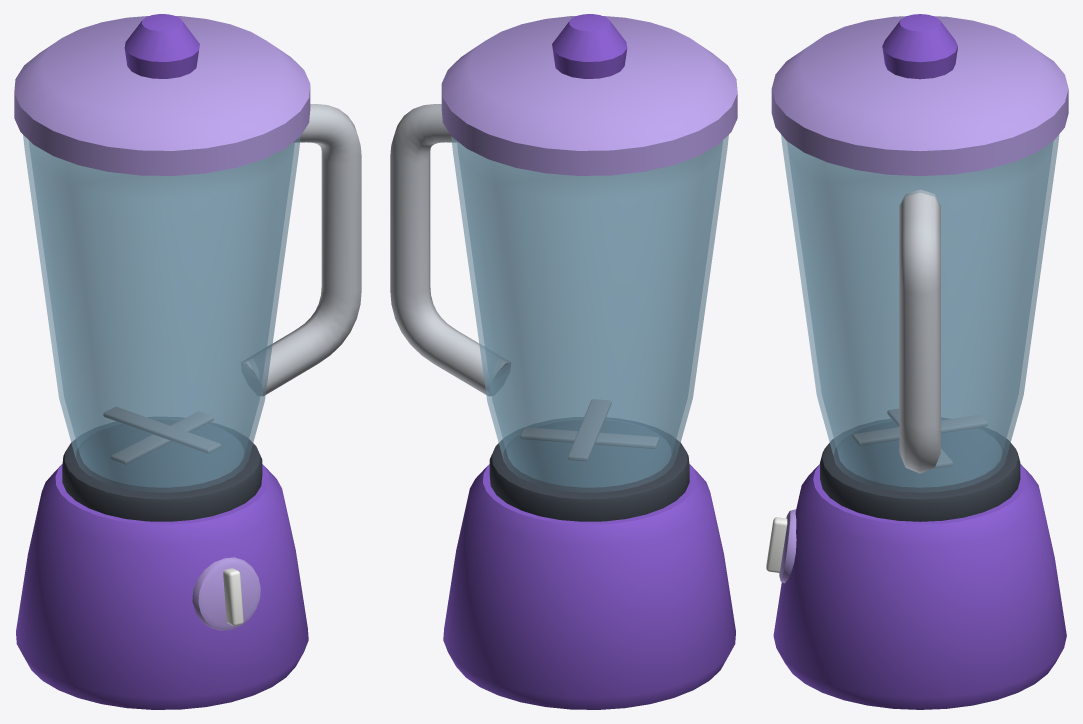
Rendered from liquidificador_roxo.glb.
3 renders of one model, left to right at view 1: azimuth 30°, elevation 25°; view 2: azimuth 150°, elevation 25°; view 3: azimuth 270°, elevation 25°, orthographic.
Parts seen in each view (by area): view 1: liquidificador_roxo; view 2: liquidificador_roxo; view 3: liquidificador_roxo.
Boxes of the visible parts, left/top/right/bottom form: liquidificador_roxo: left=14, top=14, right=361, bottom=709; liquidificador_roxo: left=390, top=14, right=737, bottom=709; liquidificador_roxo: left=766, top=14, right=1068, bottom=709.
Bounding box in the file's own units: 0.218 × 0.404 × 0.1751.
Materials: 2 (1 with a texture image).
